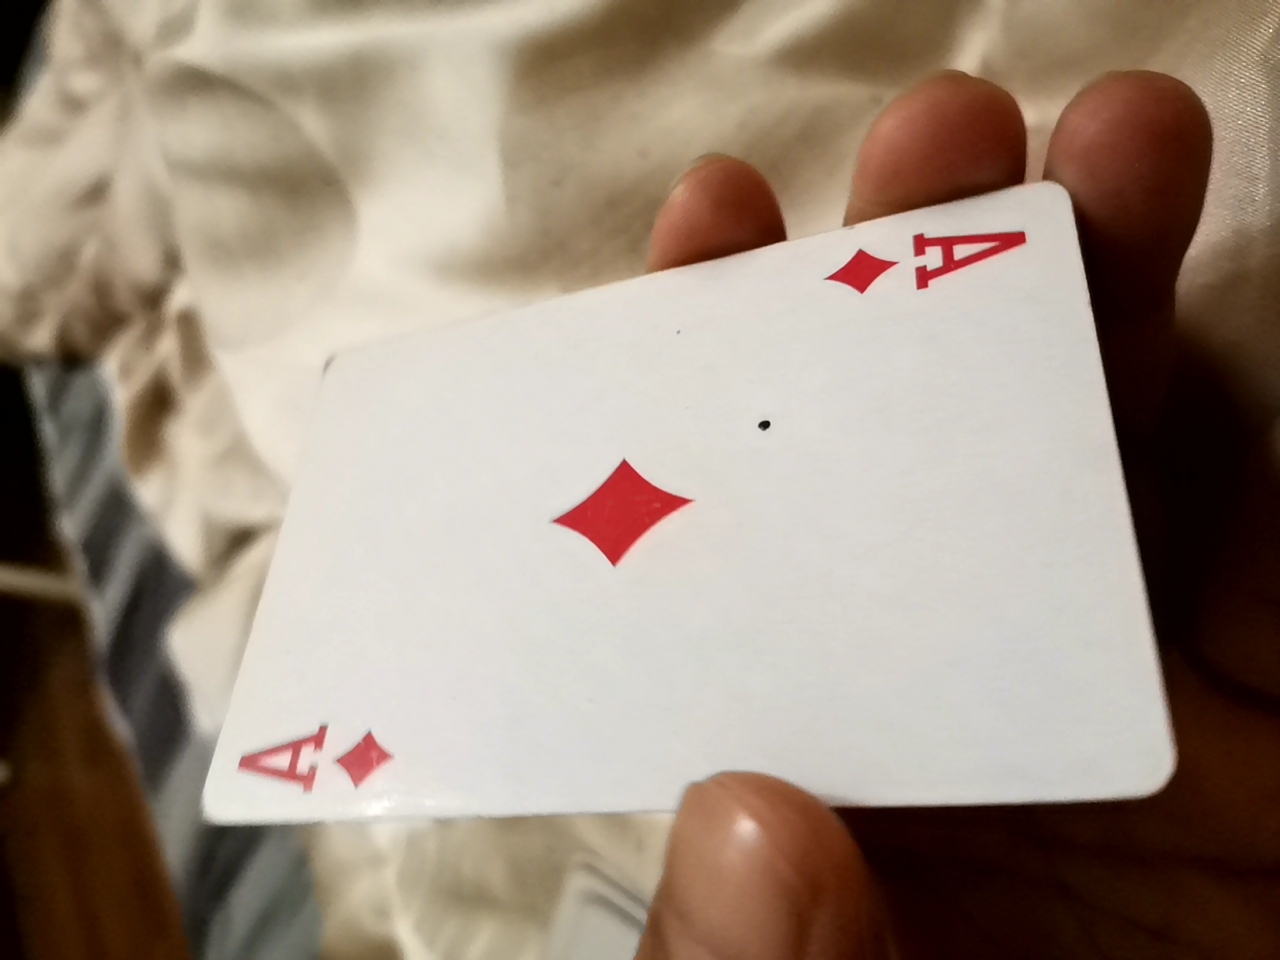fk a: (160, 202, 1192, 824)
